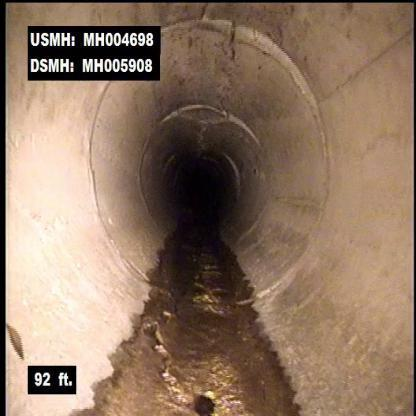Buckling: (152, 318, 180, 395)
Crack: (223, 19, 240, 62), (198, 4, 212, 18)
Joint_offset: (240, 24, 298, 77)
